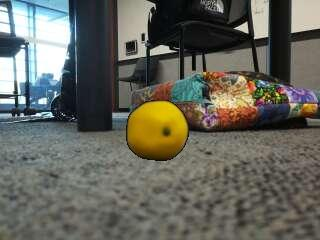lemon: (127, 101, 189, 161)
